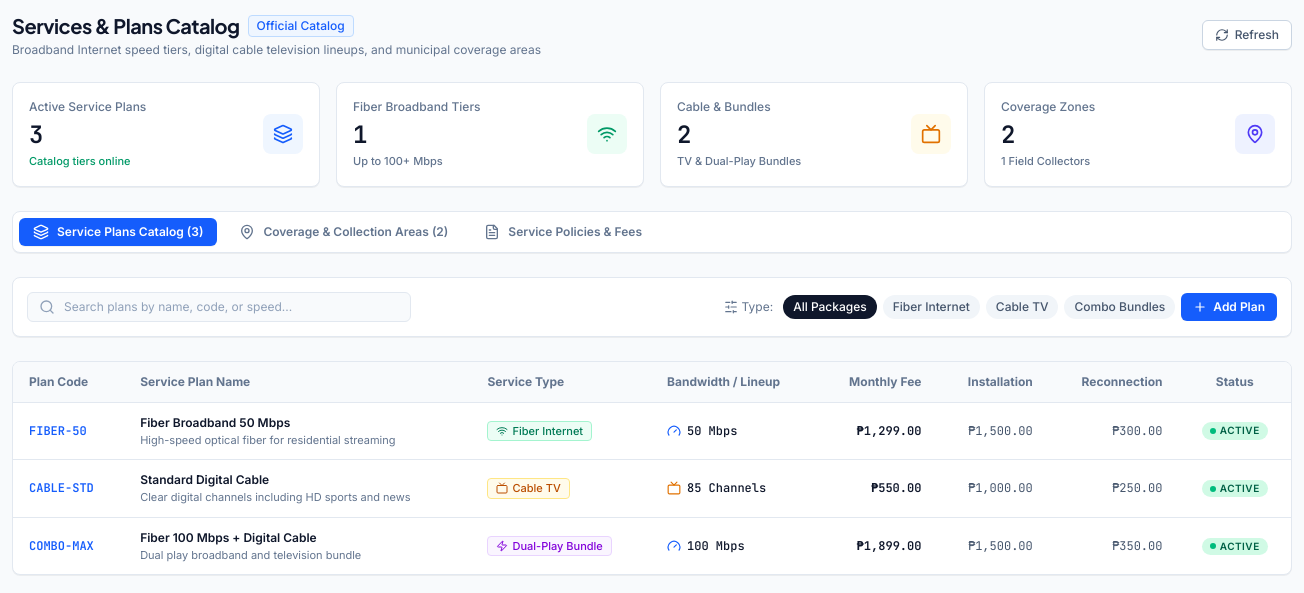
Test: ServicesPage Component (Phase 2 & Desktop Navigation) › filters service plans by category type
Expected: the text "FIBER-50" is shown, x1=13 y1=402 x2=124 y2=460
Expected: the text "CABLE-STD" is shown, x1=13 y1=460 x2=124 y2=517
Note: Click "Cable TV" filter
Click the button "Cable TV".
click(1022, 306)  # box x1=986 y1=294 x2=1058 y2=318
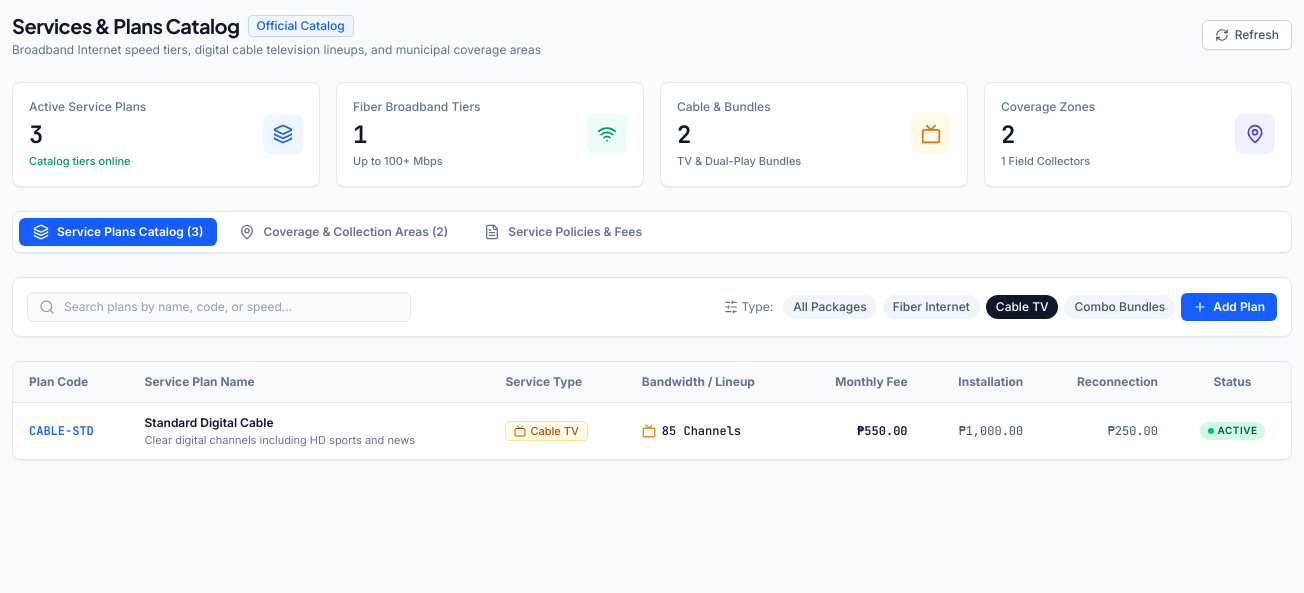
Expected: the text "CABLE-STD" is shown, x1=13 y1=402 x2=128 y2=459
Expected: the text "FIBER-50" is gone
